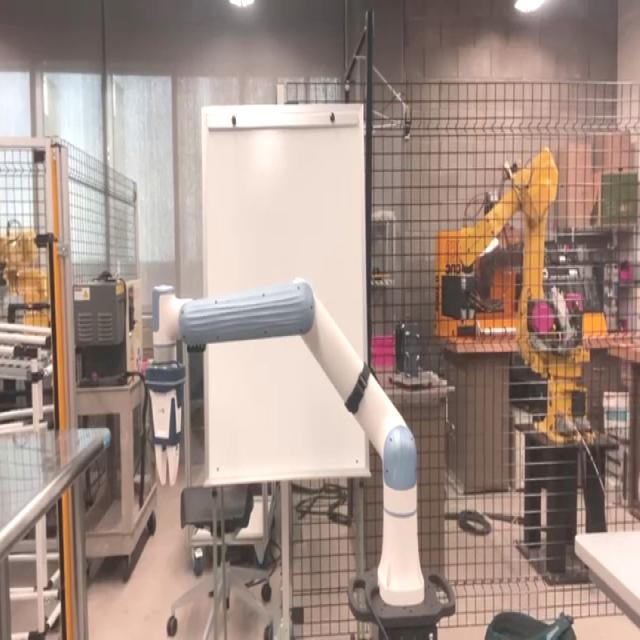robot: (112, 253, 451, 640)
